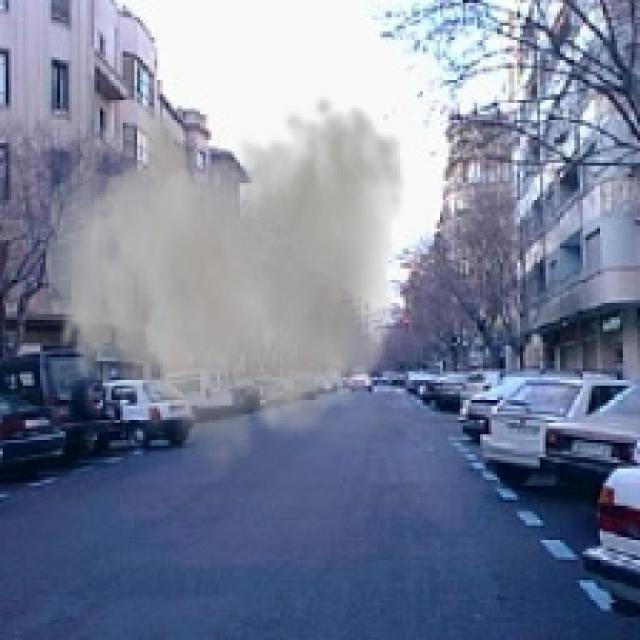Smoke: (46, 94, 406, 486)
